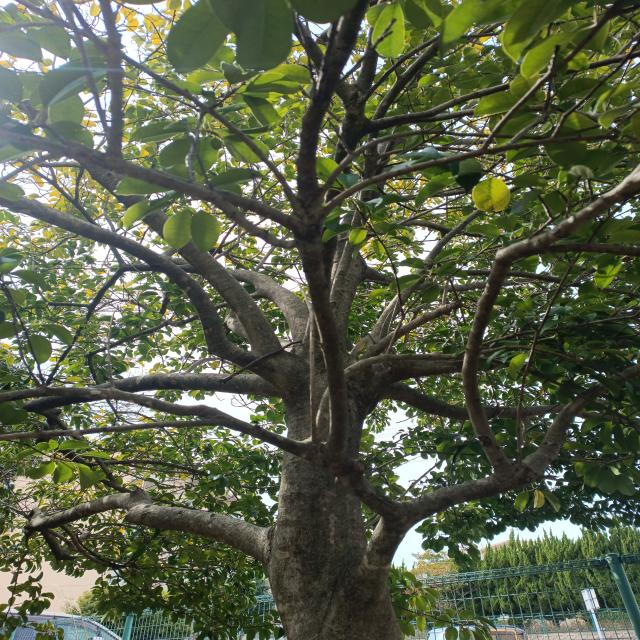Branch: (30, 118, 278, 349), (1, 188, 279, 389), (368, 363, 637, 570), (291, 0, 395, 520), (44, 264, 305, 382), (366, 180, 521, 343), (28, 485, 265, 561), (24, 373, 274, 414), (385, 383, 629, 421), (362, 298, 465, 357)
Twig: (461, 164, 640, 472), (89, 38, 297, 210), (7, 130, 297, 245), (316, 129, 622, 221), (1, 386, 313, 462), (316, 353, 568, 441), (324, 128, 544, 195), (2, 421, 213, 441), (60, 524, 129, 569)
